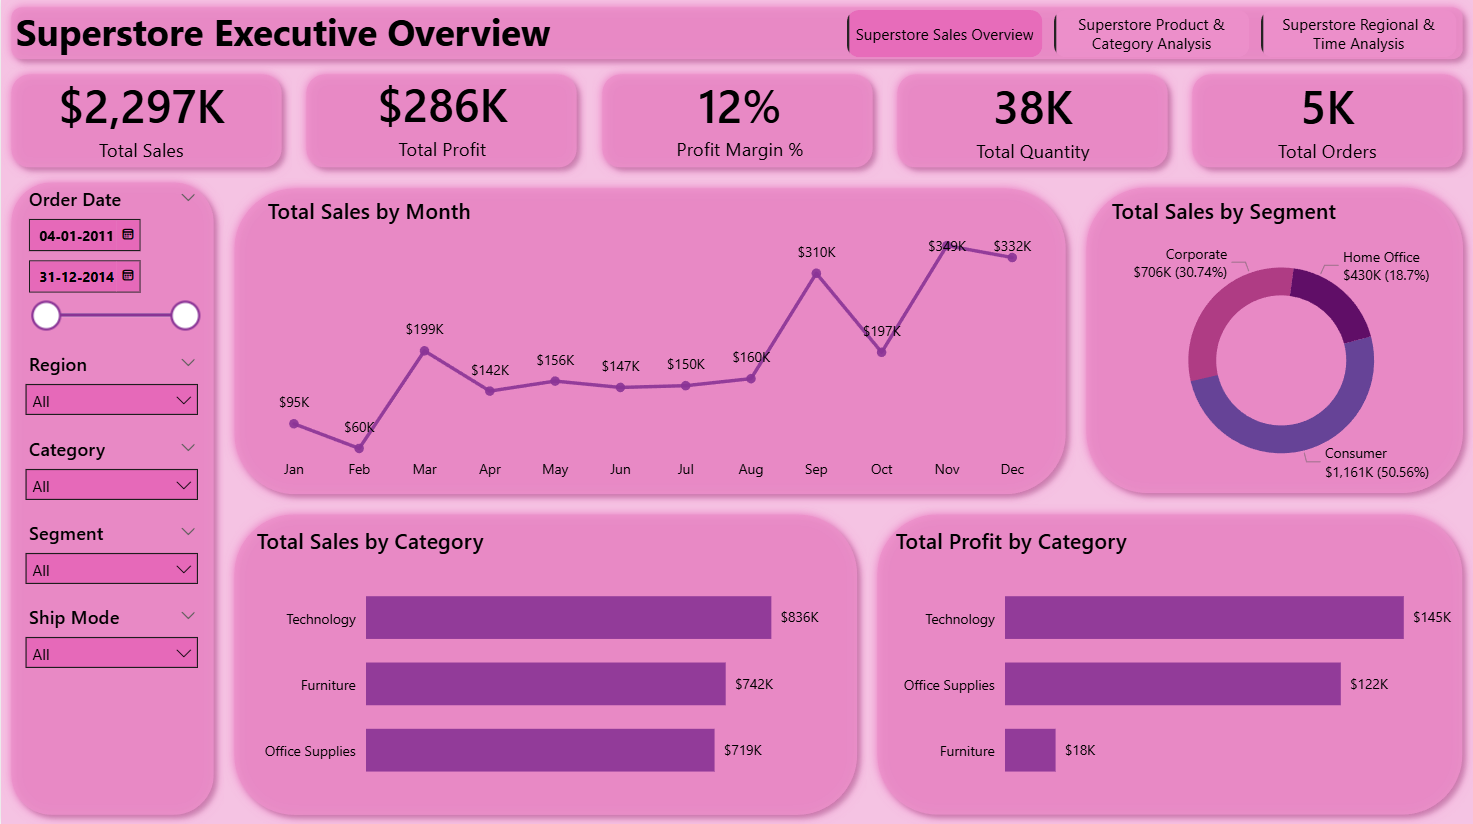

This screenshot's page, from the dashboard's own definition file:
{"tool":"powerbi","page":{"name":"Superstore Sales Overview","canvas":[1280,720],"ordinal":0},"visuals":[{"type":"shape","box":[194,157,741,284],"z":0},{"type":"shape","box":[0,0,1280,63],"z":1000},{"type":"textbox","box":[8.2,2.7,486.4,55.5],"z":2000},{"type":"shape","box":[0,58,253,99],"z":3000},{"type":"card","fields":{"Values":["Orders.Total Sales"]},"box":[29,61.7,186.8,85.2],"z":4000},{"type":"shape","box":[256.8,58,253,99],"z":5000},{"type":"shape","box":[513.5,58,253,99],"z":6000},{"type":"shape","box":[770.2,58,253,99],"z":7000},{"type":"shape","box":[1027,58,253,99],"z":8000},{"type":"card","fields":{"Values":["Orders.Total Profit"]},"box":[290.2,60.8,186.8,85.2],"z":9000},{"type":"card","fields":{"Values":["Orders.Profit Margin %"]},"box":[548.6,56.2,187.7,95.2],"z":10000},{"type":"card","fields":{"Values":["Orders.Total Quantity"]},"box":[803.4,62.6,187.7,85.2],"z":11000},{"type":"card","fields":{"Values":["Orders.Total Orders"]},"box":[1060.1,62.6,186.8,85.2],"z":12000},{"type":"lineChart","title":"Total Sales by Month","fields":{"Category":["Orders.Order Month"],"Y":["Orders.Total Sales"]},"box":[226.7,173.2,680.1,255.7],"z":13000},{"type":"shape","box":[0,152,194,568],"z":14000},{"type":"shape","box":[934.9,156.9,345.5,283.8],"z":15000},{"type":"donutChart","title":"Total Sales by Segment","fields":{"Category":["Orders.Segment"],"Y":["Orders.Total Sales"]},"box":[961,173.3,304.8,261],"z":16000},{"type":"shape","box":[194.1,440.7,559.5,279.3],"z":17000},{"type":"barChart","title":"Total Sales by Category","fields":{"Category":["Orders.Category"],"Y":["Orders.Total Sales"]},"box":[217.1,460,501,244.8],"z":18000},{"type":"shape","box":[753.3,441,526.7,279],"z":19000},{"type":"barChart","title":"Total Profit by Category","fields":{"Category":["Orders.Category"],"Y":["Orders.Total Profit"]},"box":[773.3,460,501,244.8],"z":20000},{"type":"slicer","fields":{"Values":["Orders.Order Date"]},"box":[11.4,160,170.5,154.3],"z":21000},{"type":"slicer","fields":{"Values":["Orders.Region"]},"box":[11.4,303.8,170.5,73.3],"z":22000},{"type":"slicer","fields":{"Values":["Orders.Category"]},"box":[11.4,377.1,170.5,73.3],"z":23000},{"type":"slicer","fields":{"Values":["Orders.Segment"]},"box":[11.4,450.5,170.5,73.3],"z":24000},{"type":"slicer","fields":{"Values":["Orders.Ship Mode"]},"box":[11.4,523.8,170.5,73.3],"z":25000},{"type":"pageNavigator","box":[735.5,10.9,530,41.8],"z":26000}]}

Visuals, with their boxes in screenshot pixels (x1, y1, x2, y2), scaled from the page's 1280x720 canvas onto the 1473x824 screenshot:
shape: <bbox>223, 180, 1076, 505</bbox>
shape: <bbox>0, 0, 1472, 72</bbox>
textbox: <bbox>9, 3, 569, 67</bbox>
shape: <bbox>0, 66, 291, 180</bbox>
card - Orders.Total Sales: <bbox>33, 71, 248, 168</bbox>
shape: <bbox>296, 66, 587, 180</bbox>
shape: <bbox>591, 66, 882, 180</bbox>
shape: <bbox>886, 66, 1177, 180</bbox>
shape: <bbox>1182, 66, 1472, 180</bbox>
card - Orders.Total Profit: <bbox>334, 70, 549, 167</bbox>
card - Orders.Profit Margin %: <bbox>631, 64, 847, 173</bbox>
card - Orders.Total Quantity: <bbox>925, 72, 1141, 169</bbox>
card - Orders.Total Orders: <bbox>1220, 72, 1435, 169</bbox>
"Total Sales by Month" lineChart: <bbox>261, 198, 1044, 491</bbox>
shape: <bbox>0, 174, 223, 823</bbox>
shape: <bbox>1076, 180, 1472, 504</bbox>
"Total Sales by Segment" donutChart: <bbox>1106, 198, 1457, 497</bbox>
shape: <bbox>223, 504, 867, 823</bbox>
"Total Sales by Category" barChart: <bbox>250, 526, 826, 807</bbox>
shape: <bbox>867, 505, 1472, 823</bbox>
"Total Profit by Category" barChart: <bbox>890, 526, 1466, 807</bbox>
slicer - Orders.Order Date: <bbox>13, 183, 209, 360</bbox>
slicer - Orders.Region: <bbox>13, 348, 209, 432</bbox>
slicer - Orders.Category: <bbox>13, 432, 209, 515</bbox>
slicer - Orders.Segment: <bbox>13, 516, 209, 599</bbox>
slicer - Orders.Ship Mode: <bbox>13, 599, 209, 683</bbox>
pageNavigator: <bbox>846, 12, 1456, 60</bbox>
